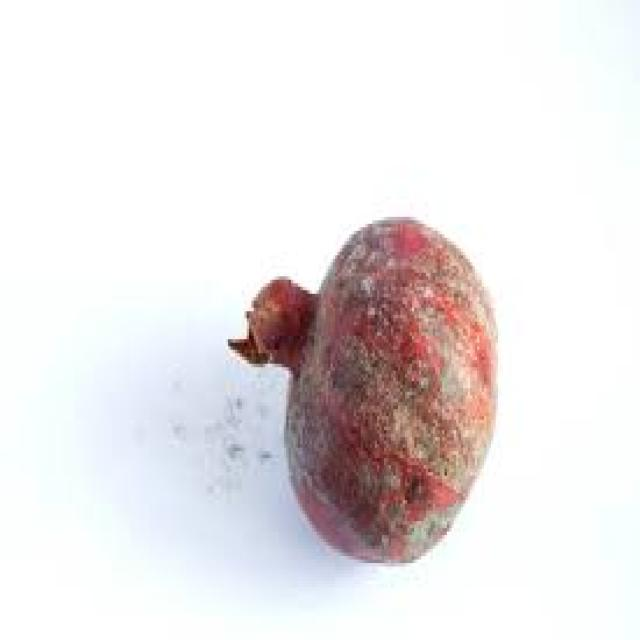Pomegranate: (277, 228, 490, 567)
